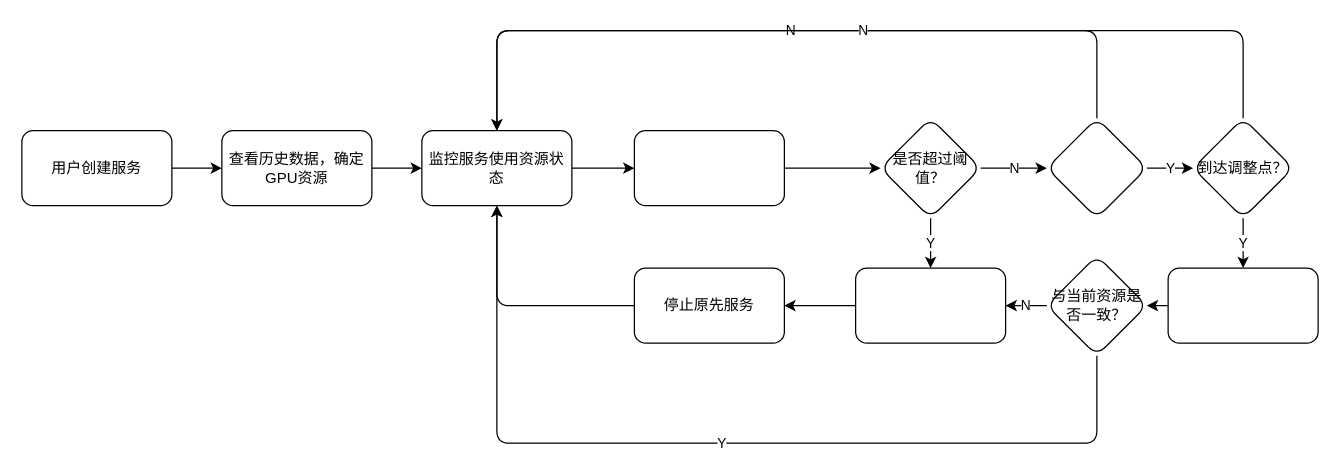
Image size: 1340x475. Some labels were removed from this diagram. The box of each missing label's shape, as (x1, y1, x2, y2) in pixels:
主动模式？: (1046, 117, 1147, 218)
创建新的服务，使用更新后的GPU资源: (854, 267, 1006, 343)
根据机器学习预测应该使用的GPU资源: (1167, 267, 1318, 343)
记录数据并持久化: (633, 129, 784, 206)
